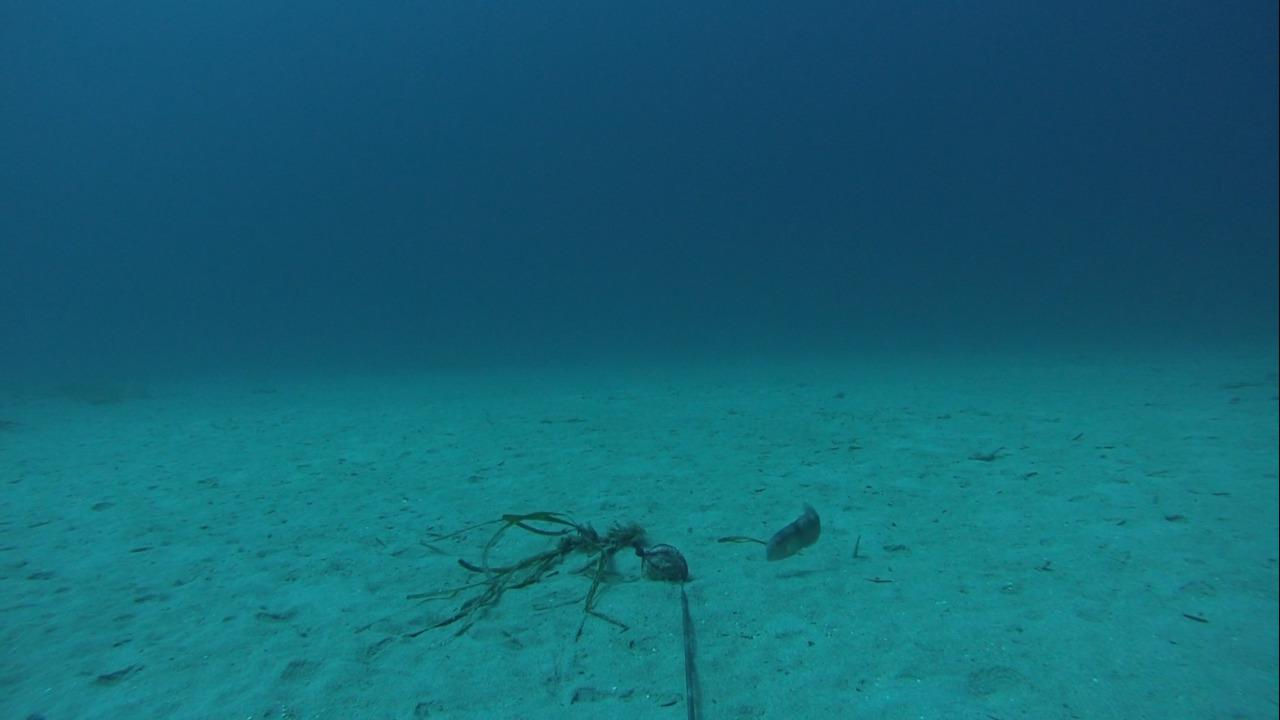raor: (759, 494, 824, 567)
